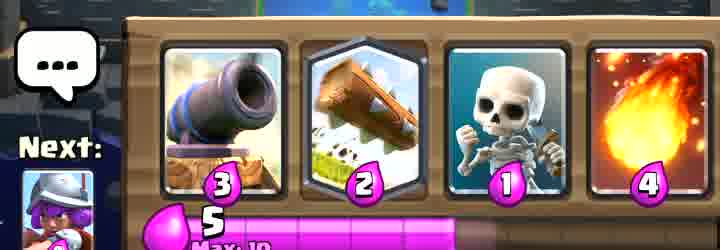fireball: (595, 46, 710, 194)
log: (311, 42, 424, 191)
musketeer: (24, 171, 93, 250)
skeleton: (449, 58, 558, 201)
